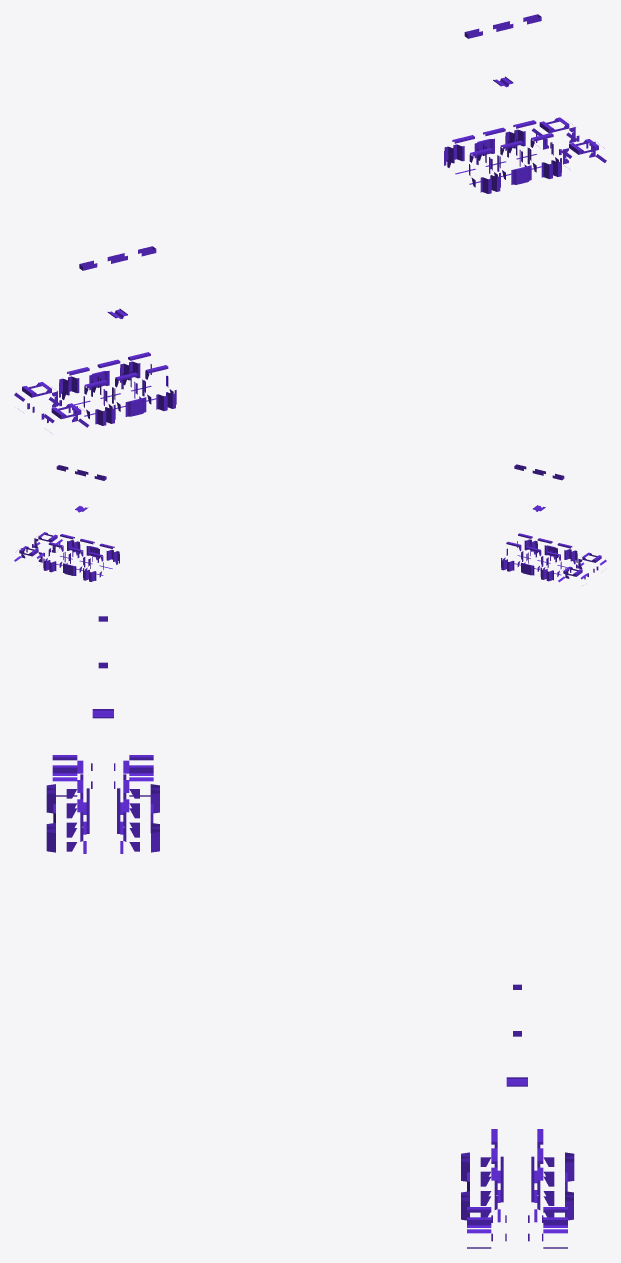
The model's file is cluster16.fbx.
The picture shows the model from 3 angles, top to bottom: view 1: azimuth 30°, elevation 25°; view 2: azimuth 150°, elevation 25°; view 3: azimuth 270°, elevation 25°; orthographic projection. The views are drawn at different scales.
Visible parts, largest first — view 1: cluster16; view 2: cluster16; view 3: cluster16.
Boxes of the visible parts, x1,y1,x2,y2 form: cluster16: (14,14,606,432); cluster16: (14,464,606,582); cluster16: (46,616,574,1248).
Size of the model in its own units: 595406 by 129357 by 292949.
